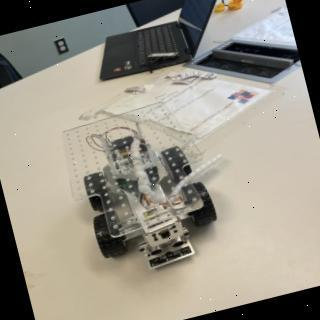vehicle: (55, 94, 235, 288)
